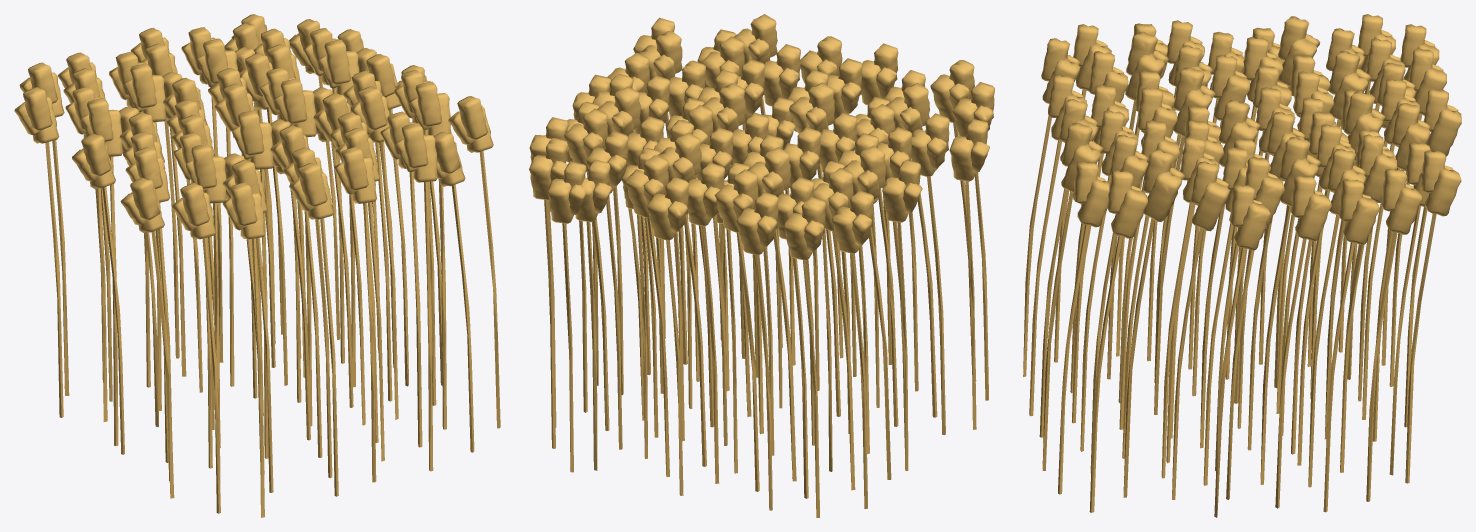
The model's file is wheat_ready.glb.
3 views of the same model, side by side, from view 1: azimuth 30°, elevation 25°; view 2: azimuth 150°, elevation 25°; view 3: azimuth 270°, elevation 25° (orthographic). The views are drawn at different scales.
Parts seen in each view (by area): view 1: WheatReady; view 2: WheatReady; view 3: WheatReady.
Boxes of the visible parts, bbox=[...] form: WheatReady: bbox=[14, 14, 500, 517]; WheatReady: bbox=[529, 14, 994, 517]; WheatReady: bbox=[1023, 14, 1461, 517].
Size of the model in its own units: 3.66 by 3.29 by 3.79.
